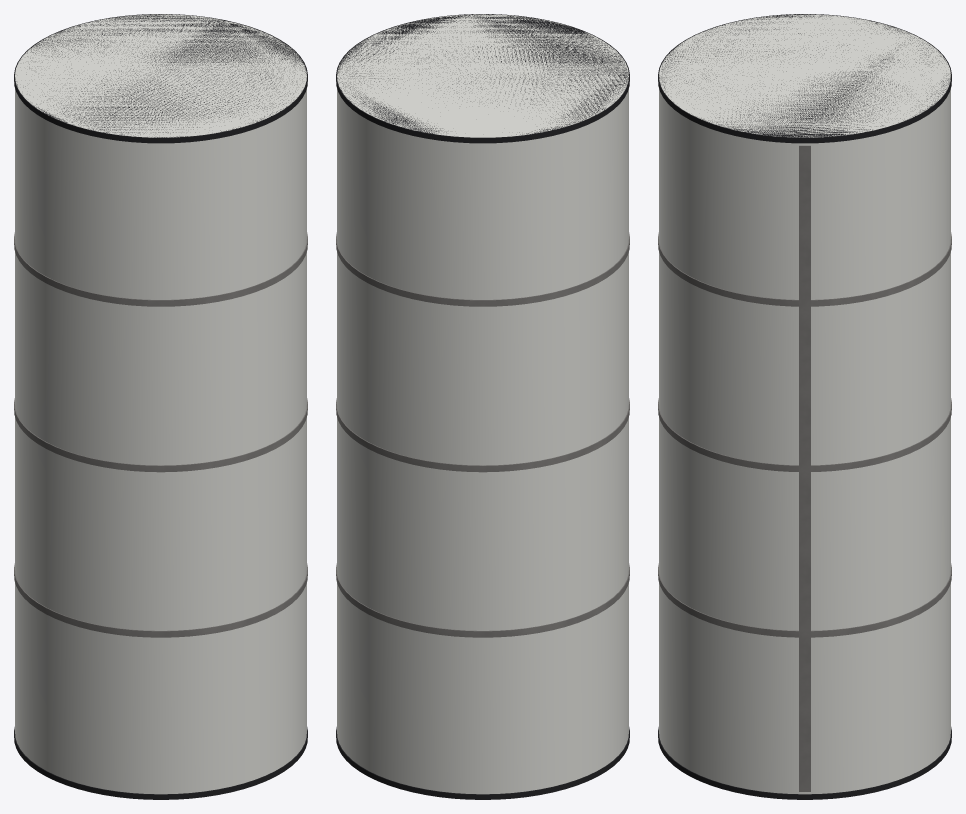
The model's file is tank13_tank_length_series_xl_half.glb.
3 renders of one model, left to right at view 1: azimuth 30°, elevation 25°; view 2: azimuth 150°, elevation 25°; view 3: azimuth 270°, elevation 25°, orthographic.
Visible parts, largest first — view 1: tank, stack_flanges, ring_frames; view 2: tank, stack_flanges, ring_frames; view 3: tank, stack_flanges, feedline, ring_frames.
Part boxes in pixels (x1,y1,x2,y2): tank: (15,14,306,794); stack_flanges: (14,14,307,799); ring_frames: (14,232,307,637); tank: (337,14,628,794); stack_flanges: (336,14,629,799); ring_frames: (336,232,629,637); tank: (659,14,950,794); stack_flanges: (658,14,951,799); feedline: (799,145,810,791); ring_frames: (658,232,951,637).
Bounding box in the file's own units: 5.03 × 12.5 × 5.03.
3 materials, 1 textured.
